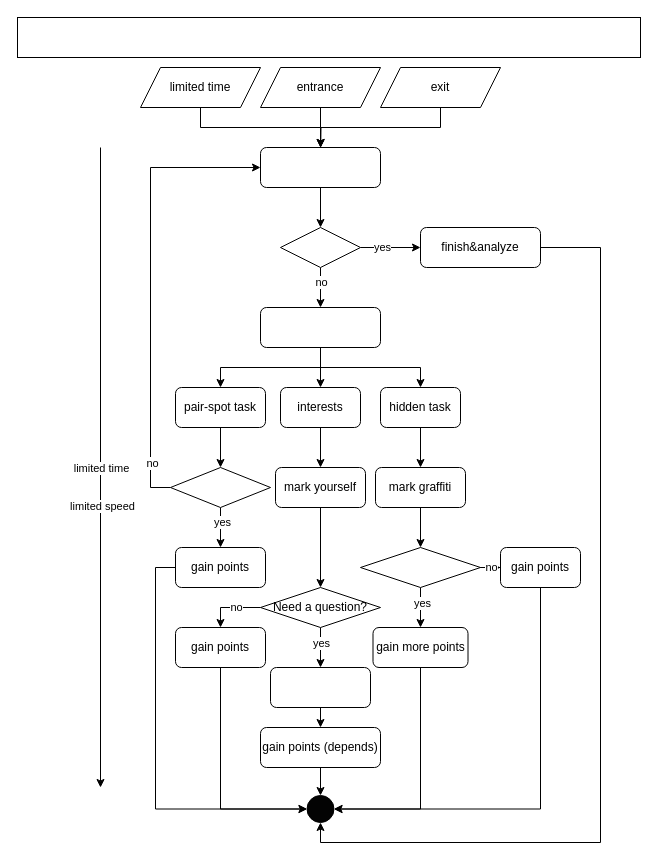
Image size: 658x868. Some labels were removed from this diagram. Here are the shapes that lost their labels. From the top down, the box of each, then its label:
(16, 16, 640, 58): Run away from the City! But view beauties as much as you can!
(260, 146, 380, 188): find next spot
(280, 226, 360, 268): Is it exit?
(260, 306, 380, 348): pre-defined tasks
(170, 466, 270, 508): Move or not?
(360, 546, 480, 588): If repetition color?
(270, 666, 370, 708): answer questions
